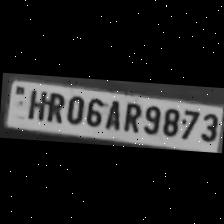0: (62, 92, 84, 124)
3: (197, 107, 218, 141)
6: (82, 94, 104, 125)
7: (177, 106, 198, 140)
8: (159, 104, 180, 136)
9: (140, 100, 162, 134)
A: (102, 96, 122, 130)
H: (25, 86, 46, 119)
R: (119, 98, 141, 133), (42, 88, 64, 122)
